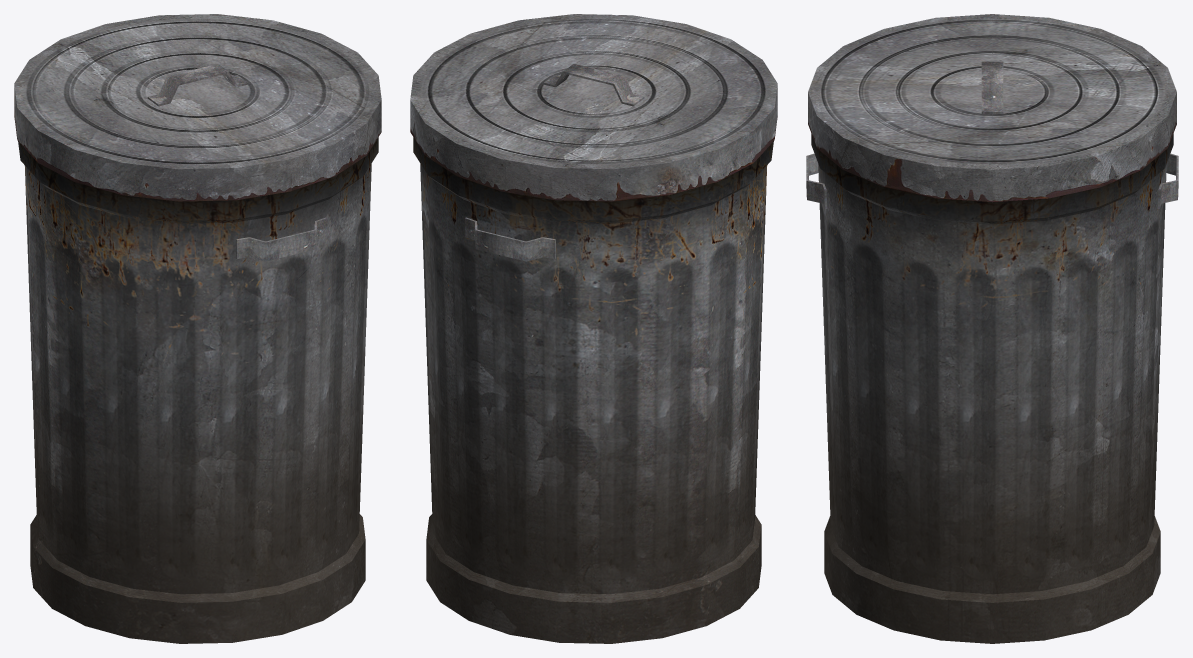
Rendered from Trash_LOD0.fbx.
3 views of the same model, side by side, from view 1: azimuth 30°, elevation 25°; view 2: azimuth 150°, elevation 25°; view 3: azimuth 270°, elevation 25° (orthographic).
Parts seen in each view (by area): view 1: kosz:Cone01; view 2: kosz:Cone01; view 3: kosz:Cone01.
Part boxes in pixels (x1,y1,x2,y2): kosz:Cone01: (14, 14, 381, 643); kosz:Cone01: (410, 14, 777, 643); kosz:Cone01: (806, 14, 1178, 643).
Size of the model in its own units: 0.7178 by 1.07 by 0.7249.
